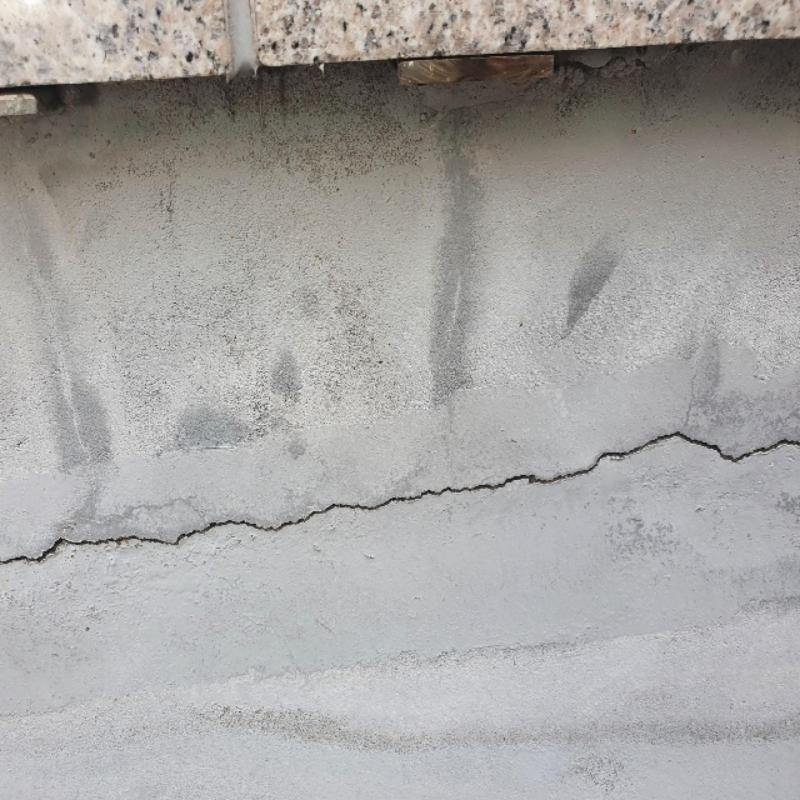pothole: (1, 419, 800, 591)
